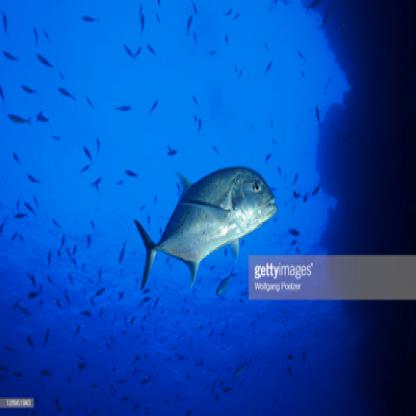jack: (131, 164, 286, 295)
